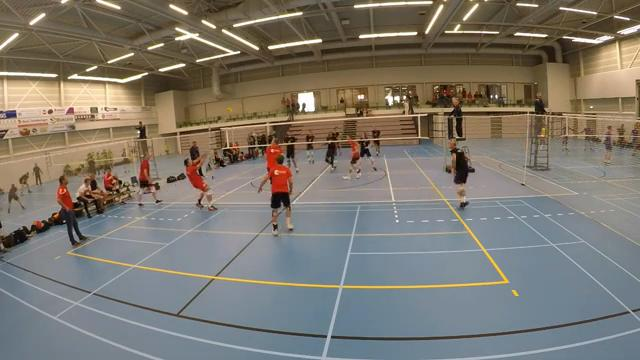Player: (258, 154, 293, 235), (449, 139, 468, 208), (343, 136, 360, 179), (360, 133, 377, 171), (284, 131, 298, 172), (266, 137, 281, 173), (325, 133, 336, 170), (305, 130, 315, 164), (372, 126, 380, 155), (333, 127, 340, 155)
Receive: (177, 150, 224, 213)
ball: (225, 105, 234, 114)
